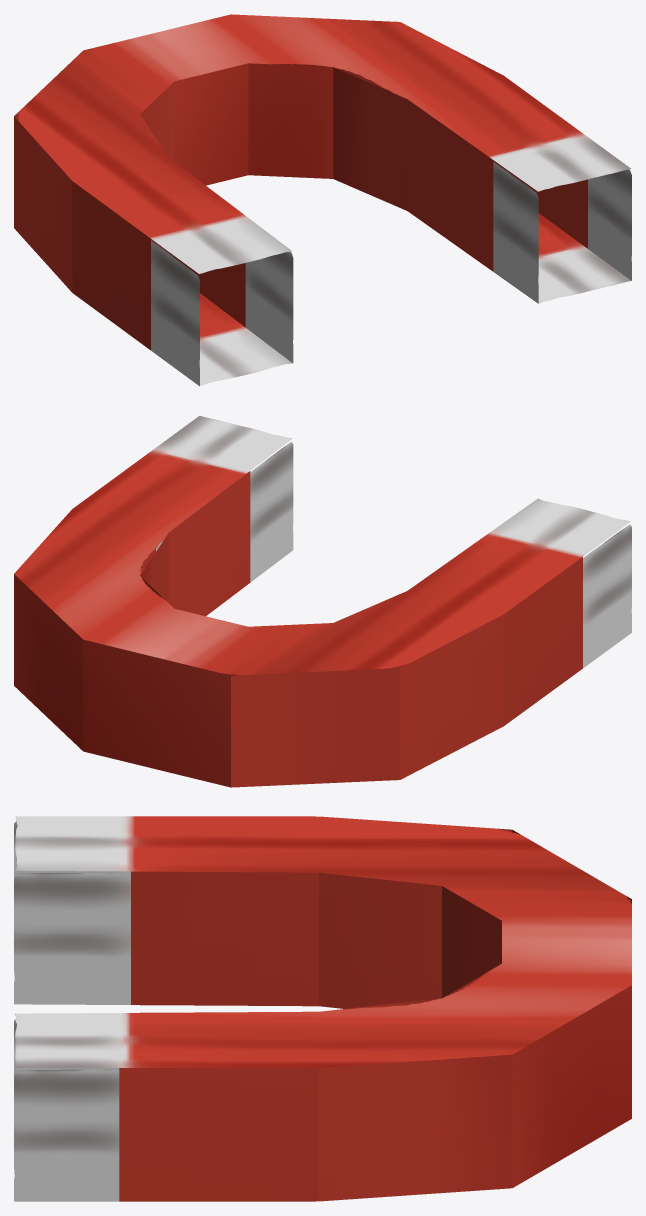
File: Magnet.fbx
The picture shows the model from 3 angles, top to bottom: view 1: azimuth 30°, elevation 25°; view 2: azimuth 150°, elevation 25°; view 3: azimuth 270°, elevation 25°; orthographic projection. The views are drawn at different scales.
Visible parts, largest first — view 1: pPipe1; view 2: pPipe1; view 3: pPipe1.
Part boxes in pixels (x1,y1,x2,y2): pPipe1: [14, 14, 631, 386]; pPipe1: [14, 416, 631, 787]; pPipe1: [14, 816, 631, 1201].
Bounding box in the file's own units: 12.49 × 3.09 × 12.96.
1 material, 1 textured.
